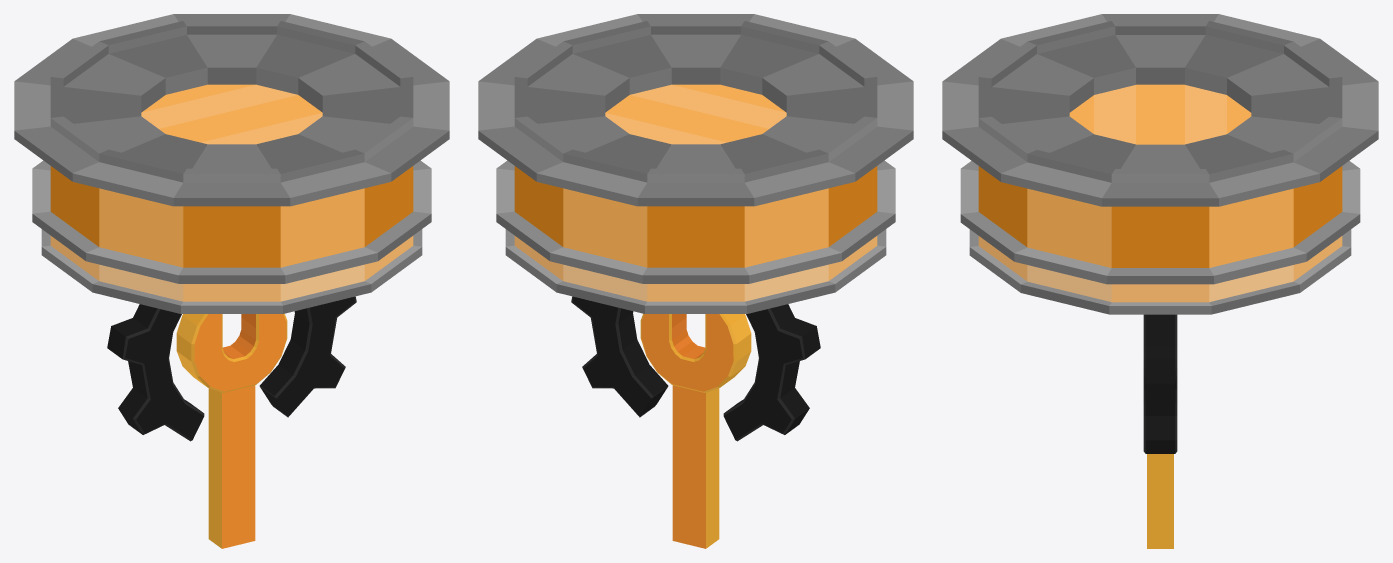
File: racing_pit.glb
3 renders of one model, left to right at view 1: azimuth 30°, elevation 25°; view 2: azimuth 150°, elevation 25°; view 3: azimuth 270°, elevation 25°, orthographic.
Parts seen in each view (by area): view 1: racing_pit_top, racing_pit_logo_in, racing_pit_logo_out; view 2: racing_pit_top, racing_pit_logo_in, racing_pit_logo_out; view 3: racing_pit_top, racing_pit_logo_out, racing_pit_logo_in.
Part boxes in pixels (x1,y1,x2,y2): racing_pit_top: [14, 14, 449, 313]; racing_pit_logo_in: [176, 314, 287, 548]; racing_pit_logo_out: [107, 296, 356, 441]; racing_pit_top: [478, 14, 913, 313]; racing_pit_logo_in: [640, 314, 751, 548]; racing_pit_logo_out: [571, 296, 820, 441]; racing_pit_top: [942, 14, 1378, 314]; racing_pit_logo_out: [1143, 314, 1177, 453]; racing_pit_logo_in: [1147, 454, 1173, 548].
Size of the model in its own units: 23.18 by 26 by 23.18.
Materials: 1 (1 with a texture image).
